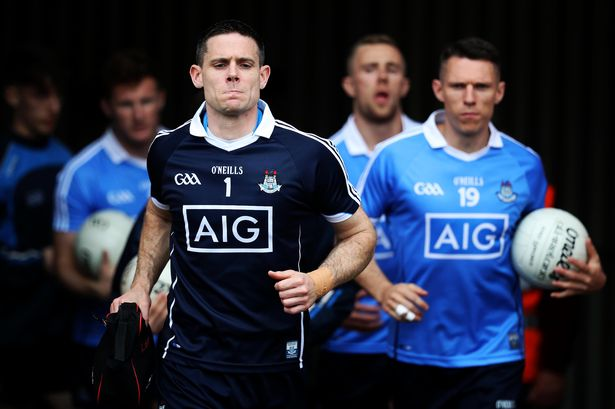ball: (494, 198, 599, 288), (74, 206, 136, 281)
player: (138, 25, 365, 371), (372, 38, 544, 362), (37, 70, 182, 269)
